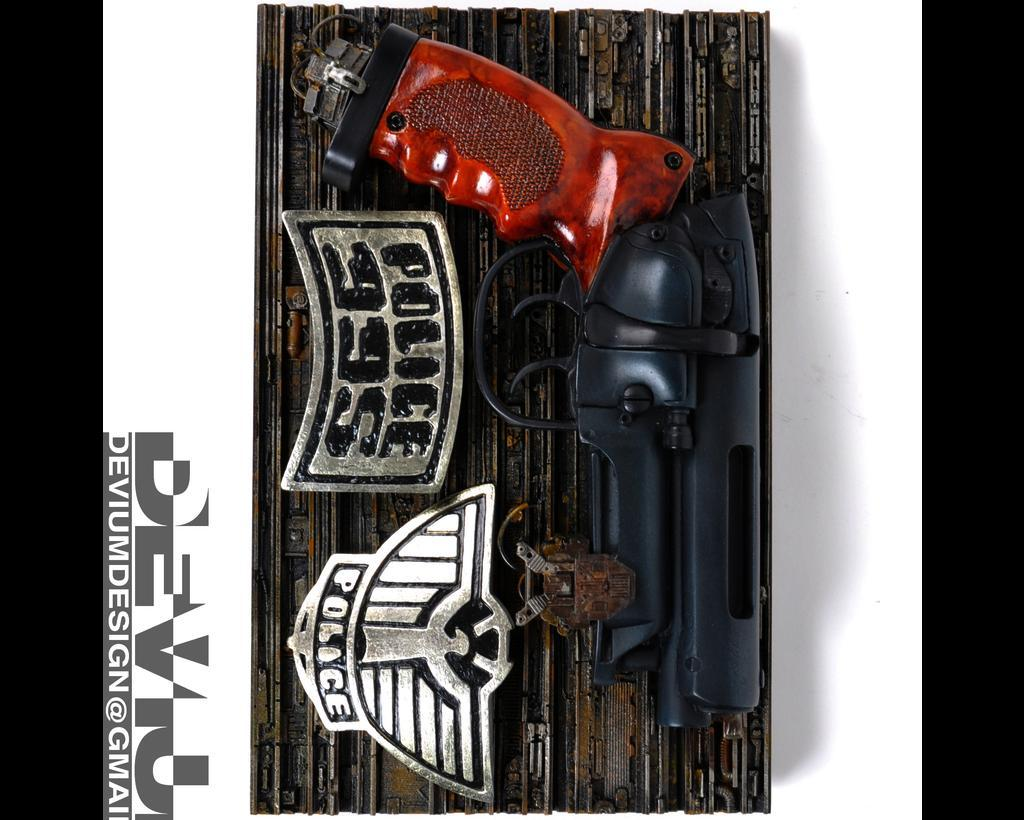gun: (320, 32, 760, 725)
